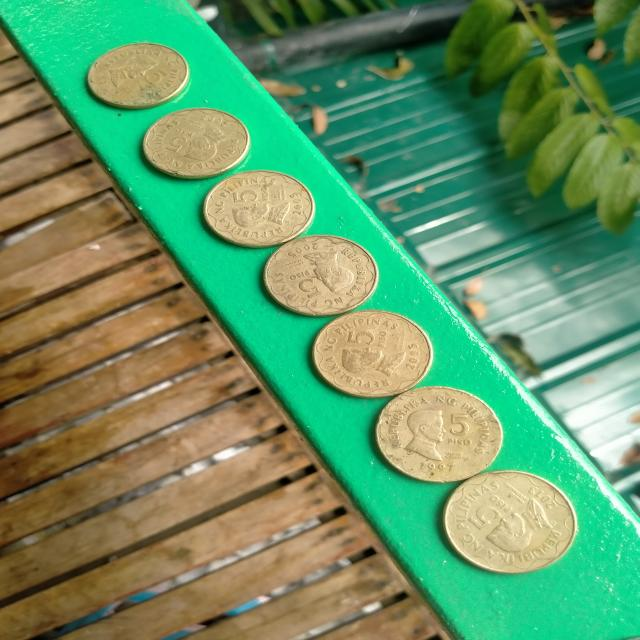5_Old_Front: (392, 396, 497, 475), (148, 111, 231, 170)
